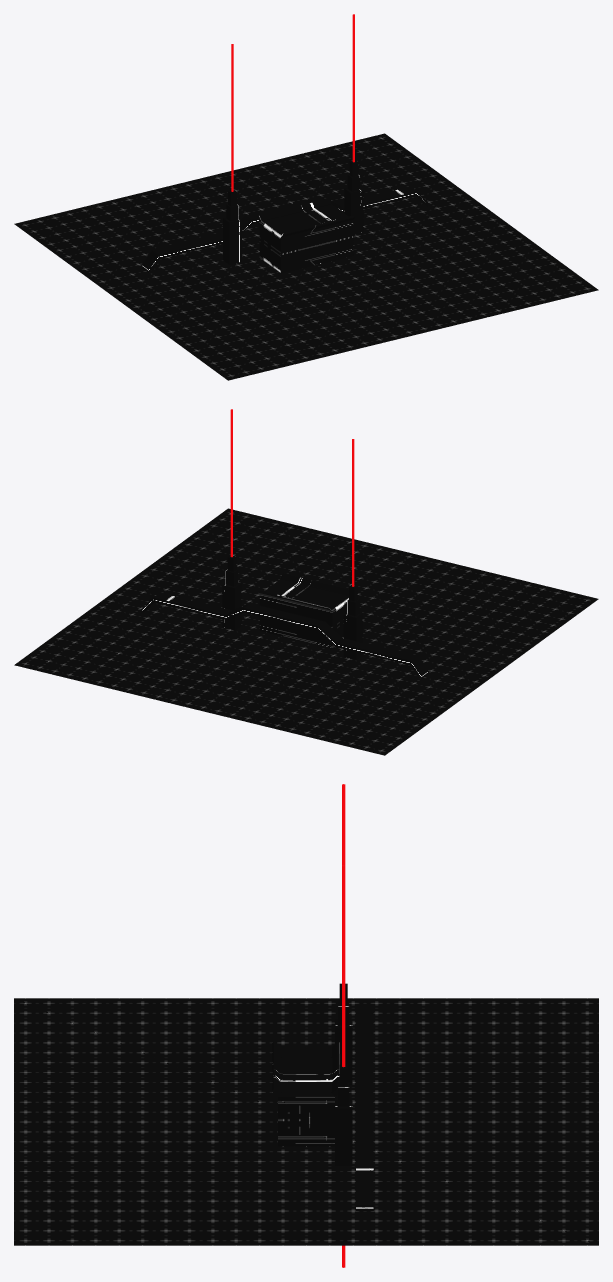
File: tronStadium.glb
3 renders of one model, top to bottom at view 1: azimuth 30°, elevation 25°; view 2: azimuth 150°, elevation 25°; view 3: azimuth 270°, elevation 25°, orthographic. The views are drawn at different scales.
Parts seen in each view (by area): view 1: Plane, Cube, Cube.001; view 2: Plane, Cube.001, Cube; view 3: Plane, Cube.001, Cube.
Boxes of the visible parts, <box> form: Plane: <box>14,133,598,380</box>; Cube: <box>258,198,354,273</box>; Cube.001: <box>142,14,427,272</box>; Plane: <box>14,508,598,755</box>; Cube.001: <box>142,409,427,678</box>; Cube: <box>258,573,348,648</box>; Plane: <box>14,998,598,1245</box>; Cube.001: <box>335,784,373,1267</box>; Cube: <box>272,1042,340,1146</box>.
Bounding box in the file's own units: 20.44 × 15.47 × 20.44.
4 materials, 3 textured.
